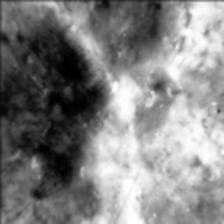Potentially Malignant Skin Tumors: (0, 26, 112, 200)
